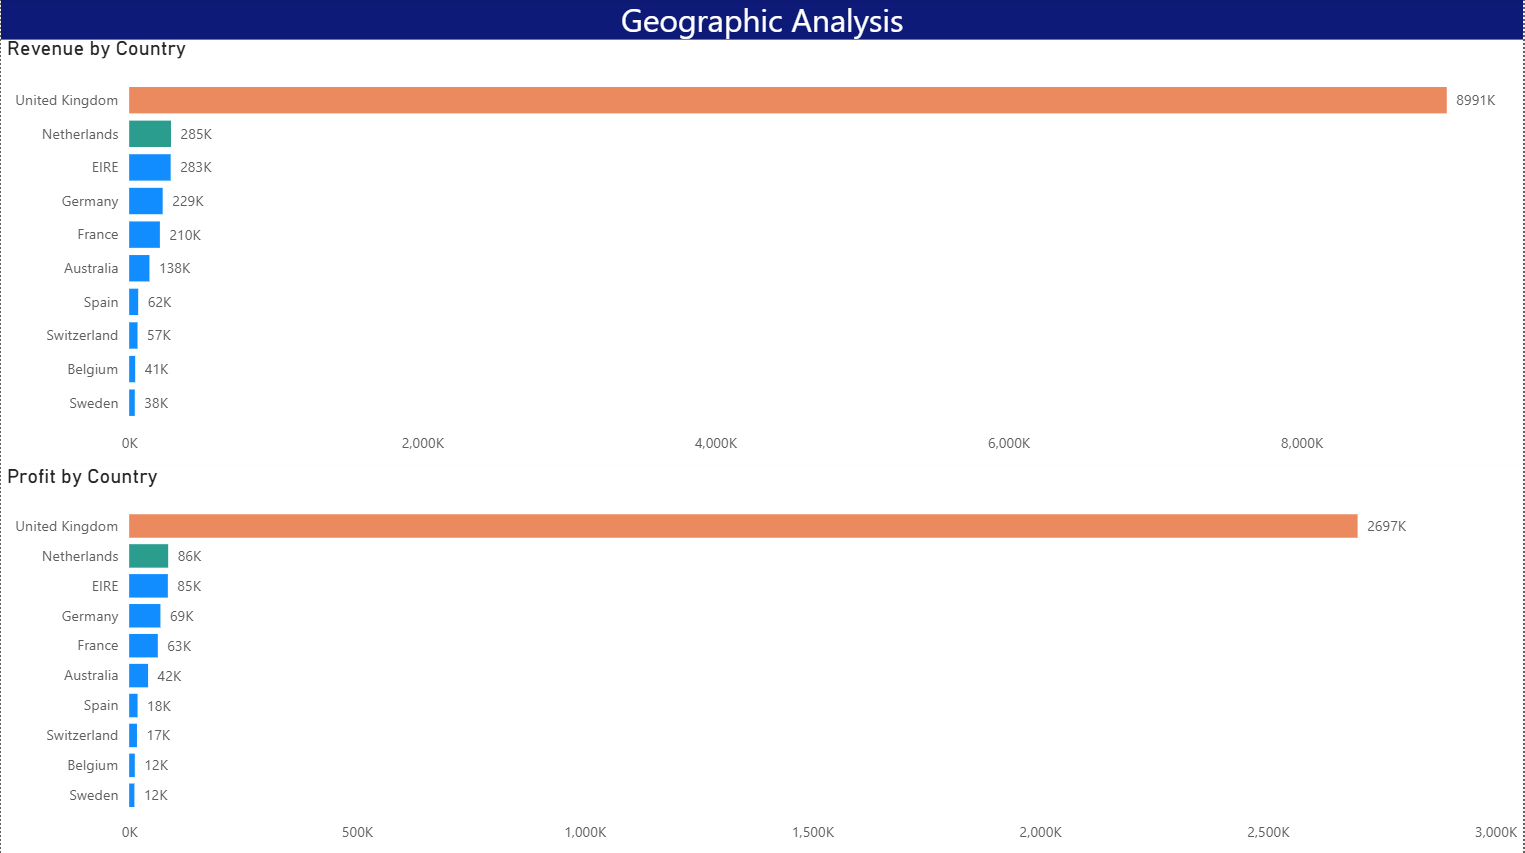

The dashboard page shown, as its layout file describes it:
{"tool":"powerbi","page":{"name":"Geographic Analysis","canvas":[1280,720],"ordinal":3},"visuals":[{"type":"clusteredBarChart","title":" Revenue by Country","fields":{"Category":["cleaned_retail_data.Country"],"Y":["Sum(cleaned_retail_data.Revenue)"]},"box":[0,31.6,1280.3,360.9],"z":0},{"type":"clusteredBarChart","title":"Profit by Country","fields":{"Category":["cleaned_retail_data.Country"],"Y":["Sum(cleaned_retail_data.Profit)"]},"box":[0,392.5,1280.3,328],"z":1000},{"type":"shape","box":[0,0,1280.5,31.6],"z":2000}]}

Visuals, with their boxes in screenshot pixels (x1, y1, x2, y2), scaled from the page's 1280x720 canvas onto the 1525x853 screenshot:
" Revenue by Country" clusteredBarChart: bbox=[0, 37, 1524, 465]
"Profit by Country" clusteredBarChart: bbox=[0, 465, 1524, 852]
shape: bbox=[0, 0, 1524, 37]
